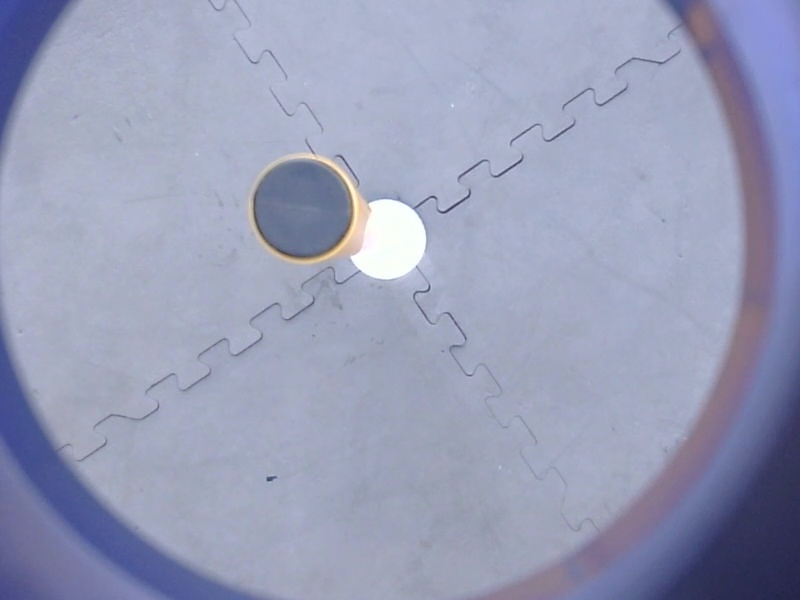tip: (240, 146, 366, 270)
